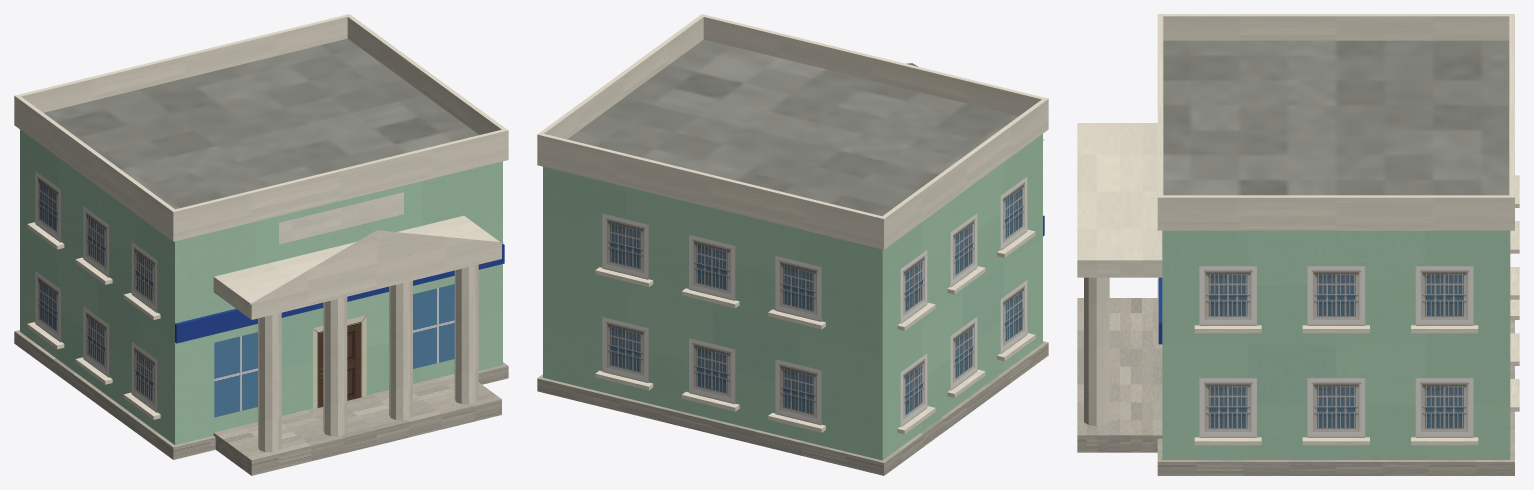
File: bank-mint.glb
3 renders of one model, left to right at view 1: azimuth 30°, elevation 25°; view 2: azimuth 150°, elevation 25°; view 3: azimuth 270°, elevation 25°, orthographic. The views are drawn at different scales.
Parts seen in each view (by area): view 1: bank-mint, sign_1; view 2: bank-mint; view 3: bank-mint.
Boxes of the visible parts, left/top/right/bottom form: bank-mint: left=14, top=14, right=508, bottom=475; sign_1: left=279, top=192, right=403, bottom=244; bank-mint: left=537, top=14, right=1048, bottom=475; bank-mint: left=1077, top=14, right=1519, bottom=475.
Size of the model in its own units: 11.48 by 7.95 by 11.44.
Materials: 1 (1 with a texture image).
